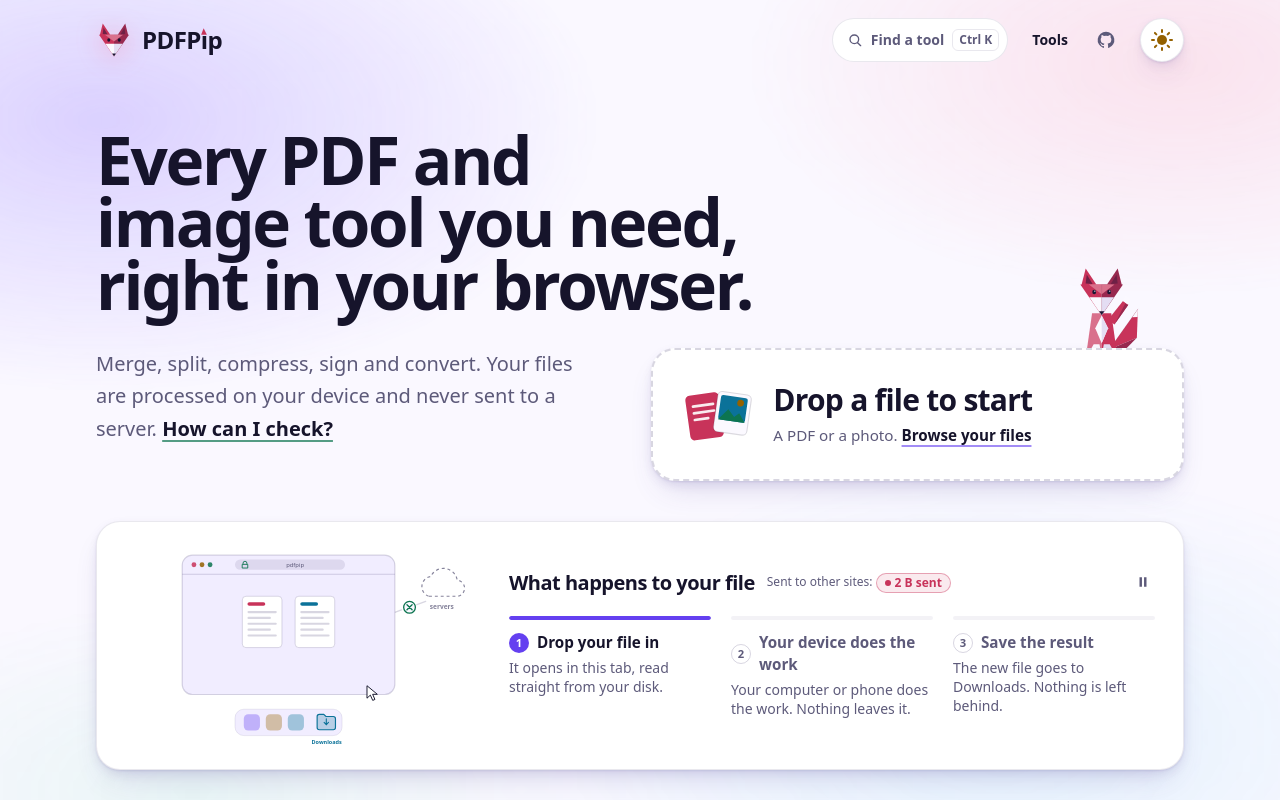
Test: command palette › opens from the header button and hands focus back on close
Step 1. Click the button with aria-label "Search tools" → x=920, y=40, box [832, 18, 1008, 62]
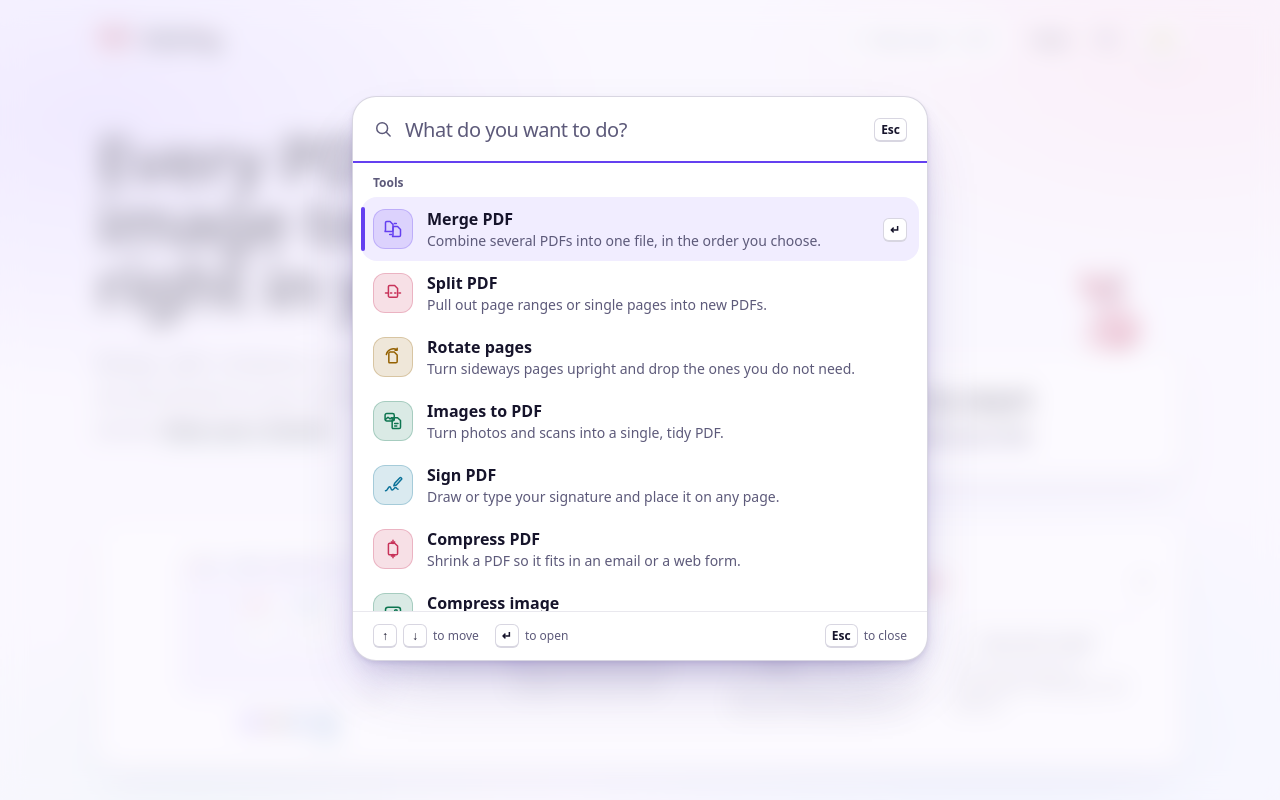
Now the dialog named "search tools and actions" is shown, box [352, 96, 928, 661]
Step 2. Type keys "{Control>}k{/Control}"
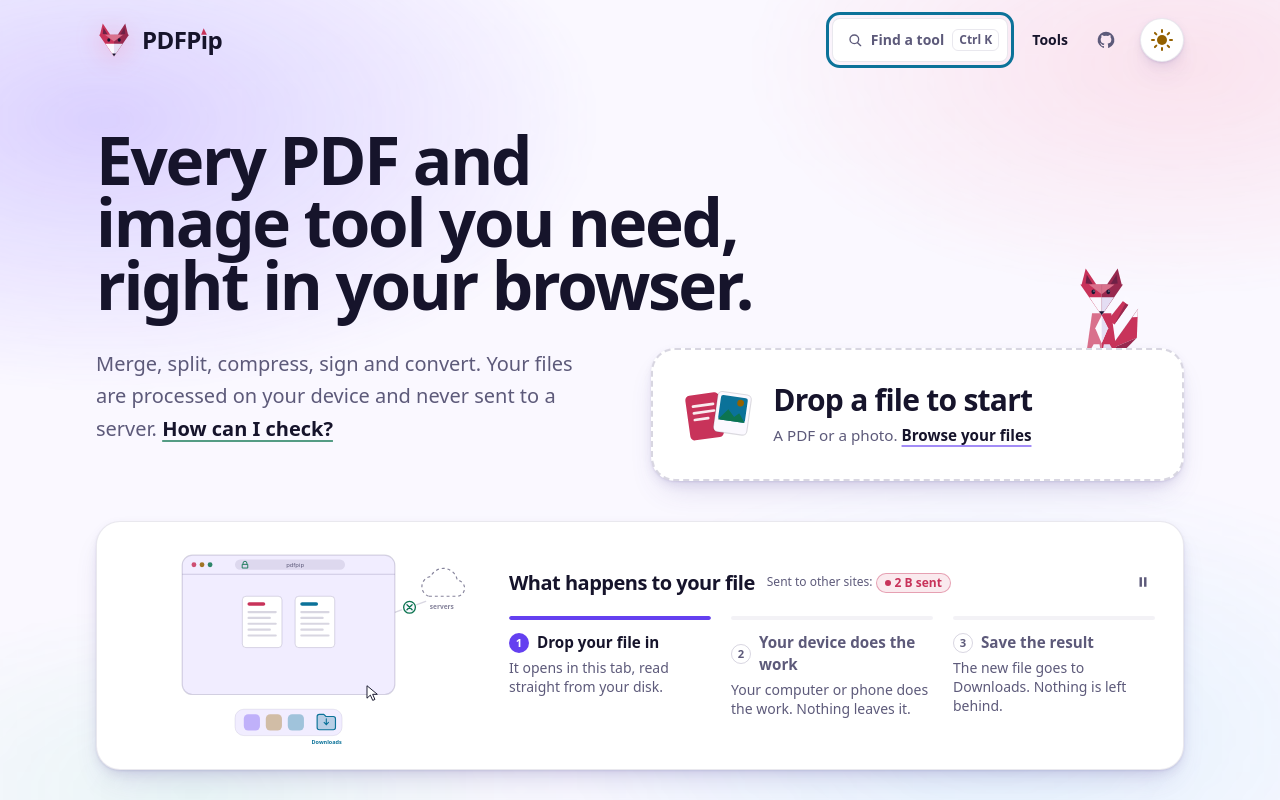
Now the dialog is gone
